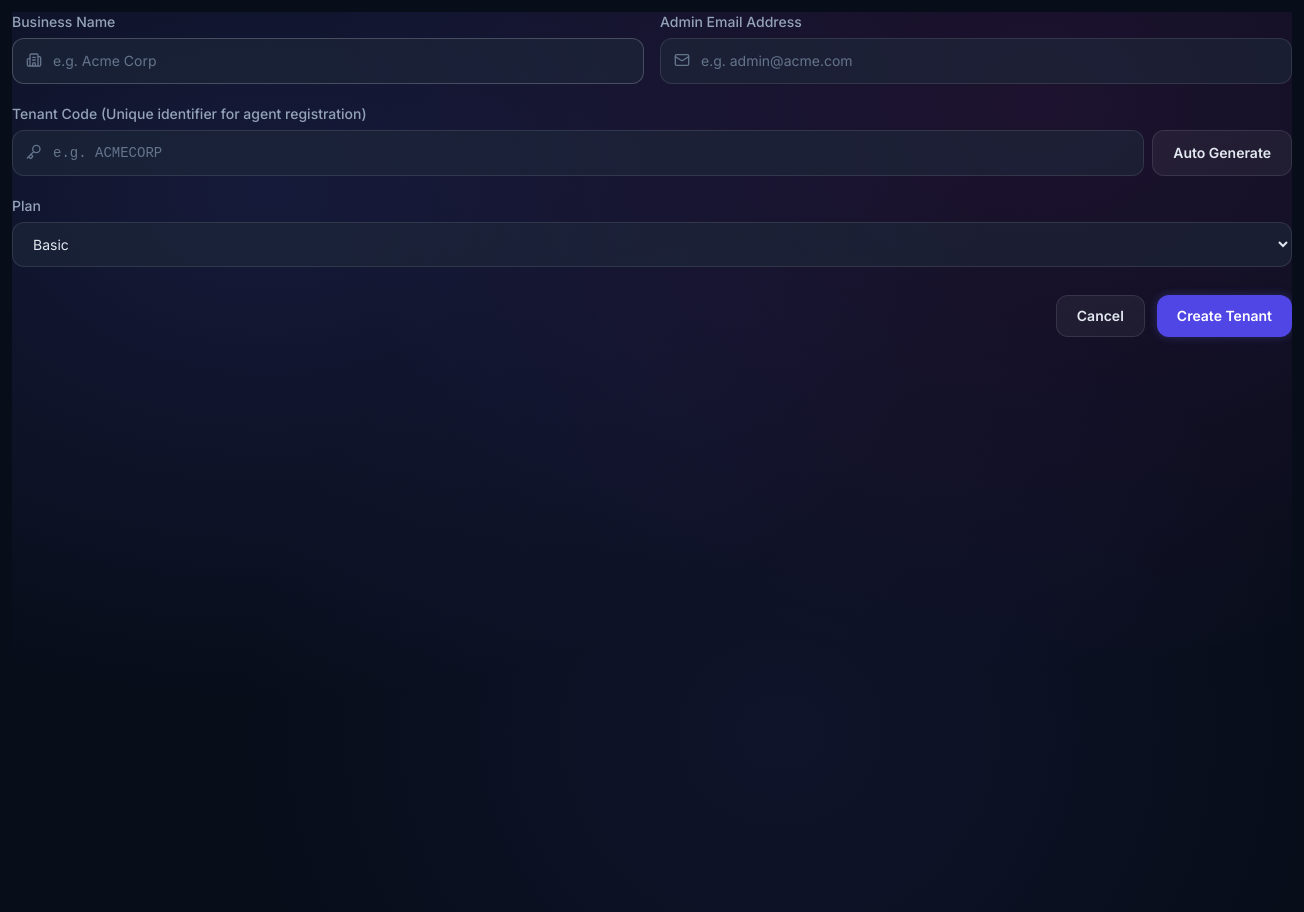
Scenario: CreateTenantForm › validates email format
In the field labelled "Business Name": [328, 61] box left=12, top=38, right=644, bottom=84, type "Test Business"
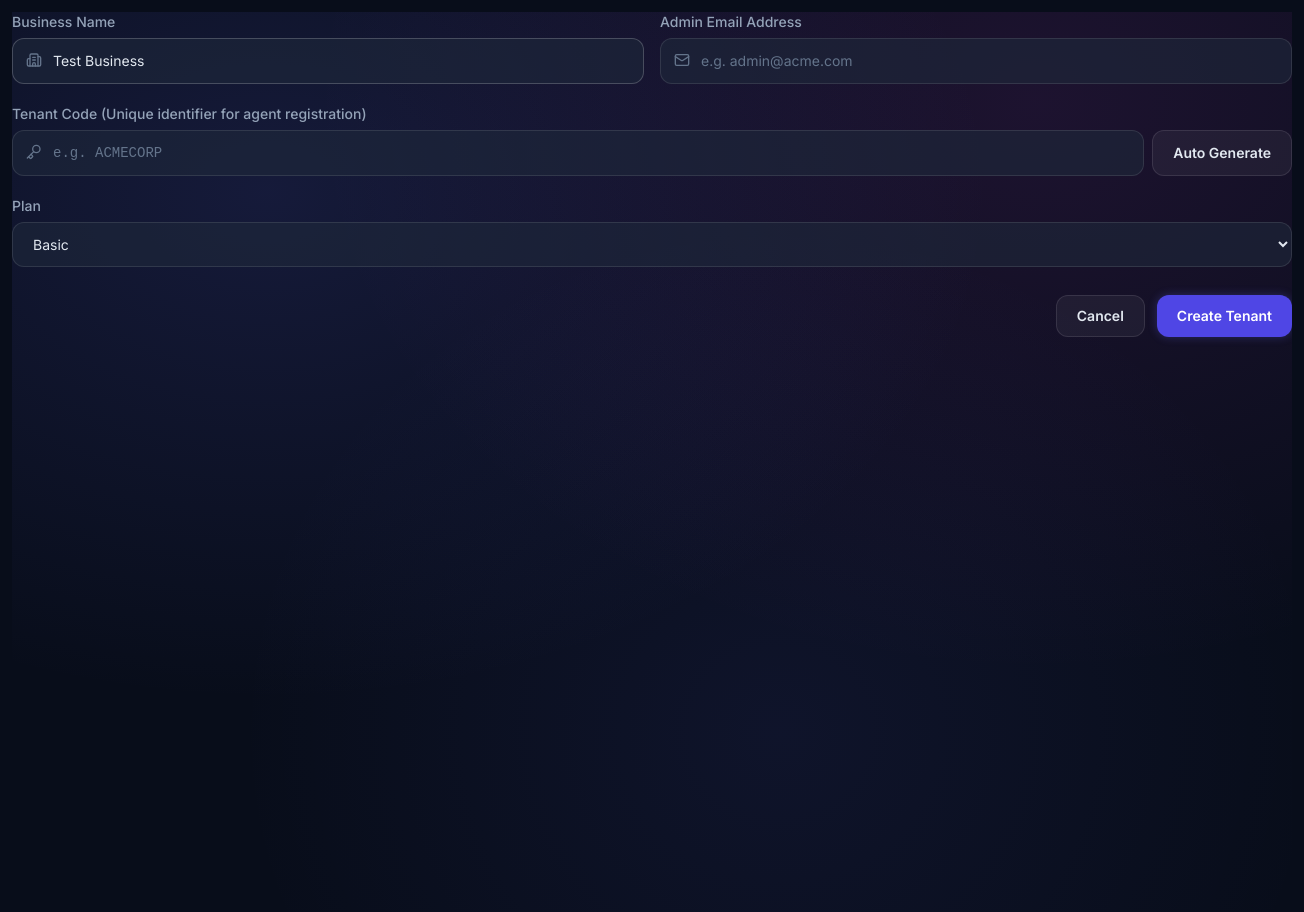
In the field labelled "Admin Email Address": [976, 61] box left=660, top=38, right=1292, bottom=84, type "invalid-email"
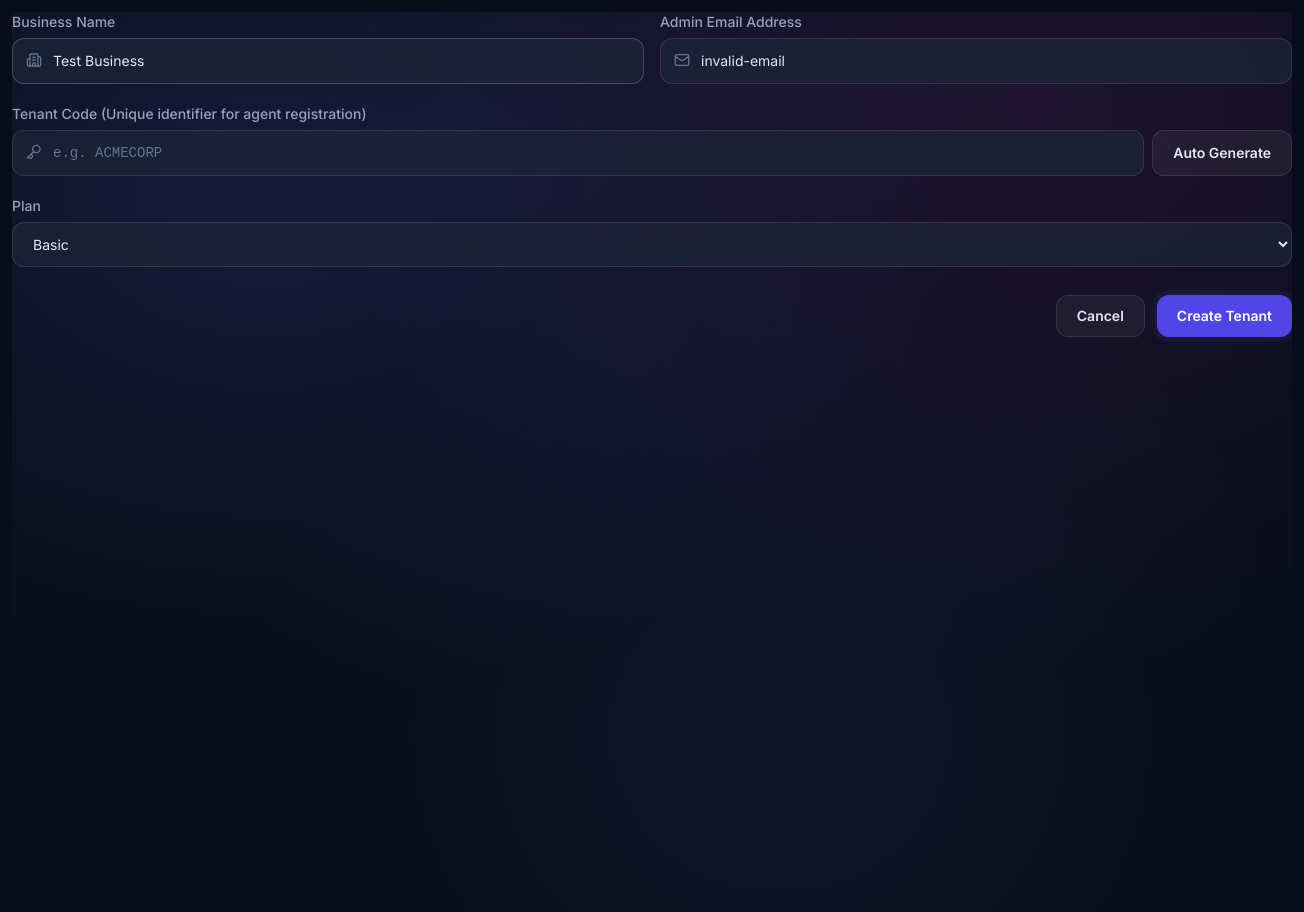
Click the button "Create Tenant": [1224, 316] box left=1157, top=295, right=1292, bottom=337
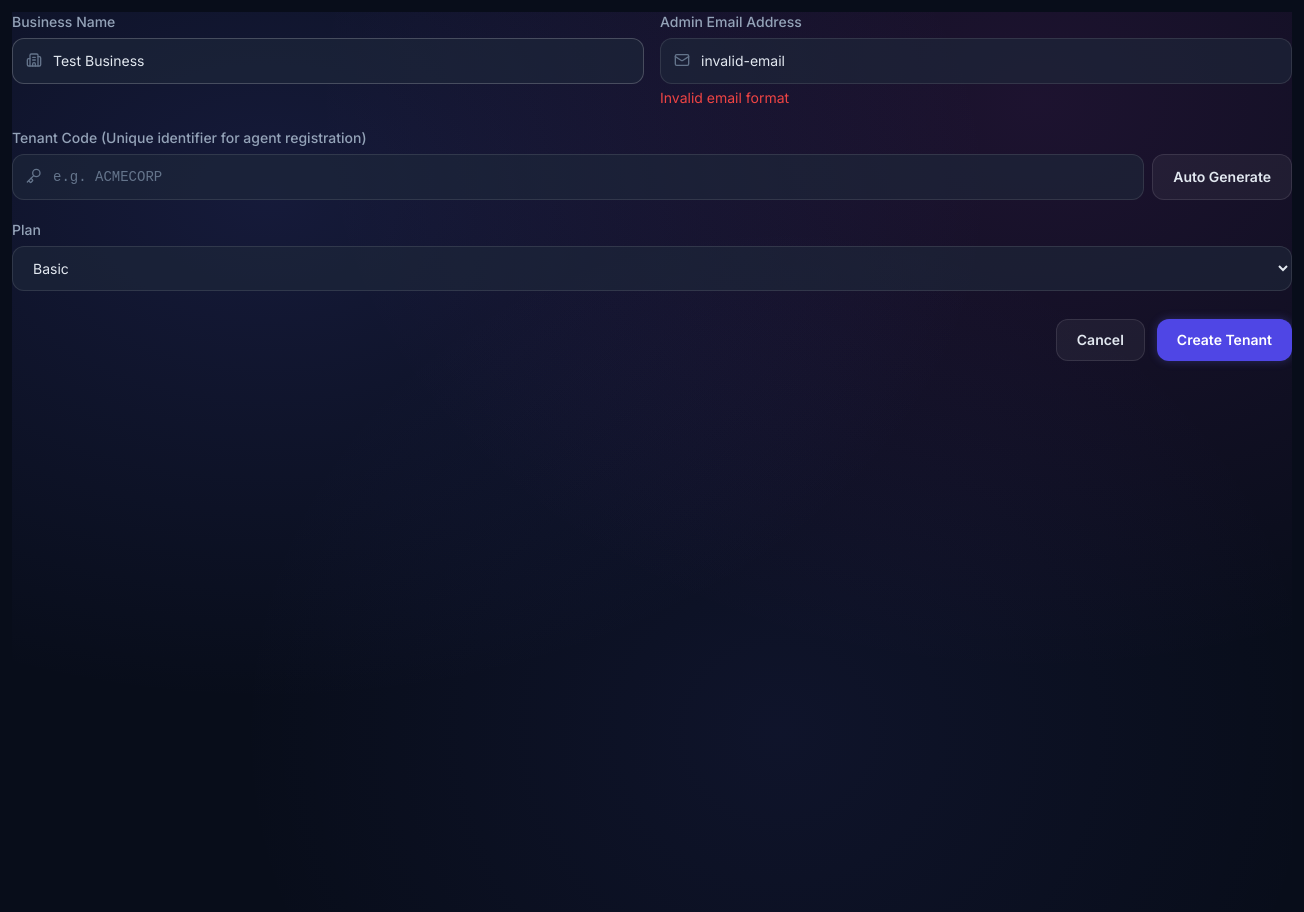
Check: the text "Invalid email format" is shown, box left=660, top=89, right=789, bottom=106
